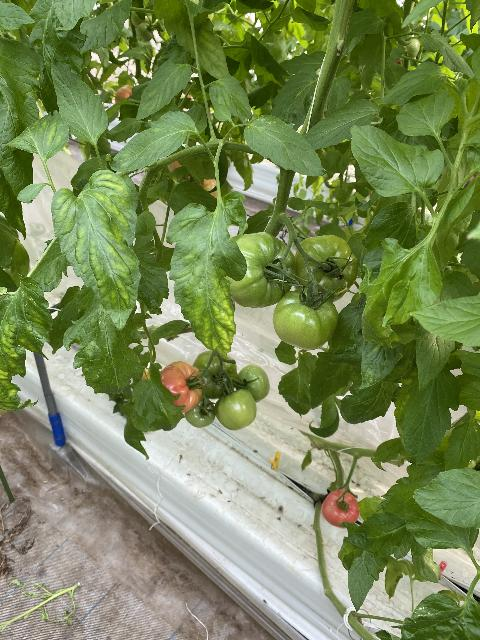b_fully_ripened: (321, 489, 360, 528)
b_green: (221, 232, 297, 309), (293, 234, 358, 302), (272, 289, 339, 351), (193, 350, 239, 400), (214, 389, 257, 430), (235, 364, 270, 403), (185, 395, 216, 427)
b_half_ripened: (159, 361, 203, 414)
